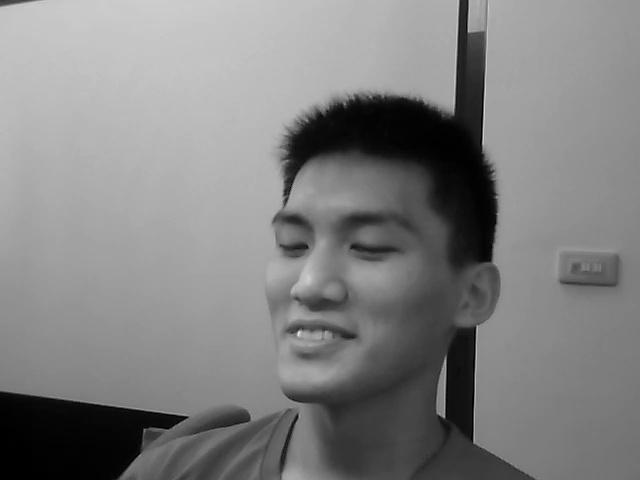eye_closed: (347, 238, 402, 258), (277, 237, 309, 257)
face: (264, 152, 455, 403)
